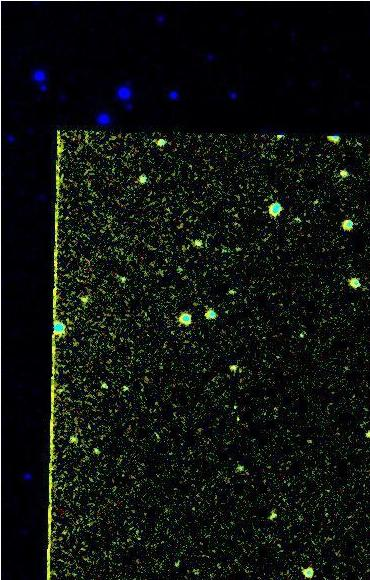star: (224, 399, 254, 429)
